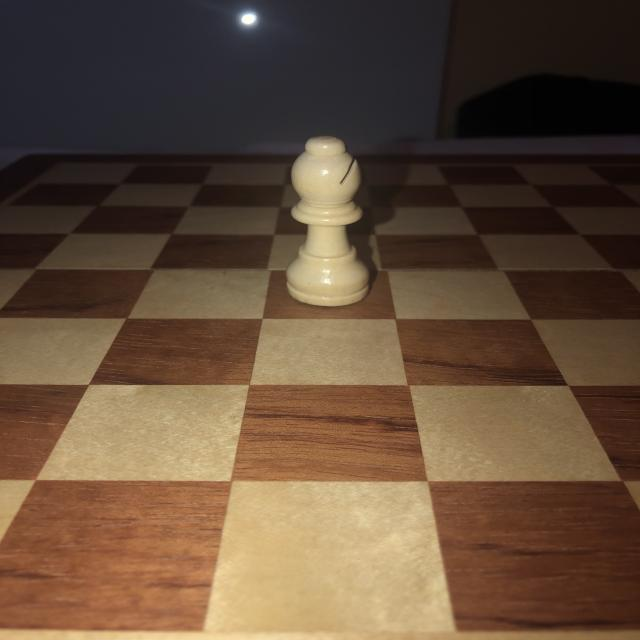white_bishop: (286, 134, 374, 308)
